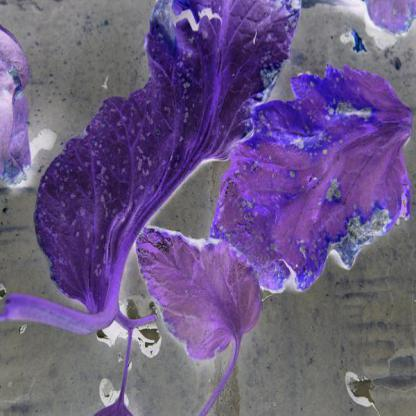Tomato leaf bacterial spot: (202, 76, 413, 290)
